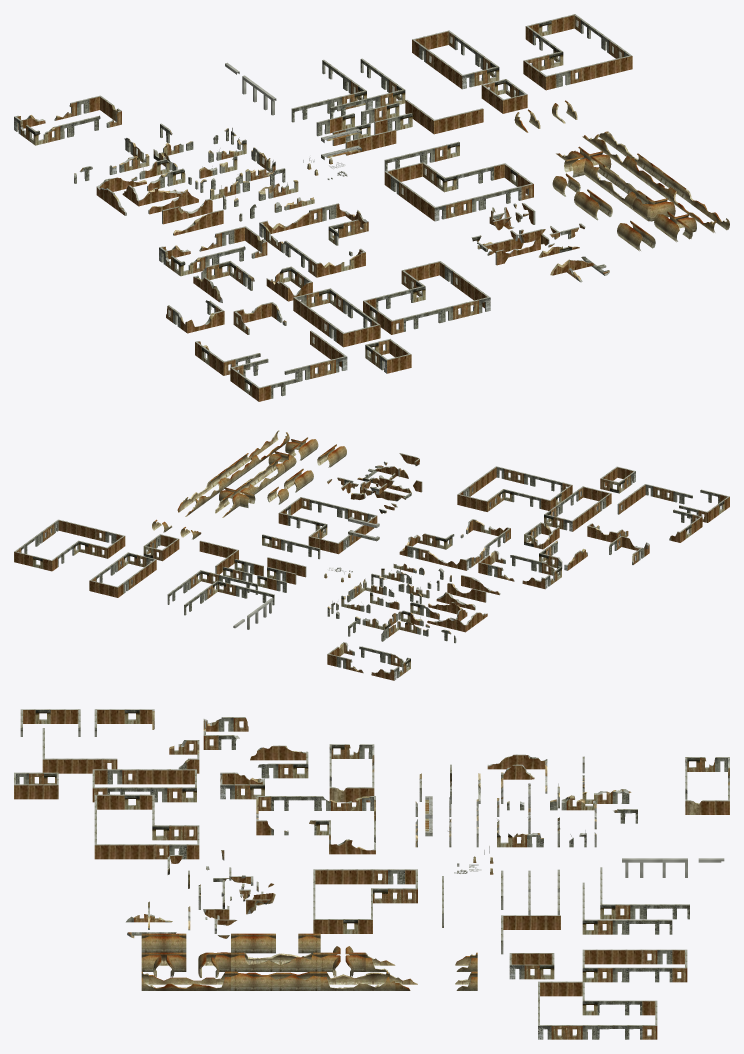
The model's file is Ruins_Layout.glb.
3 renders of one model, top to bottom at view 1: azimuth 30°, elevation 25°; view 2: azimuth 150°, elevation 25°; view 3: azimuth 270°, elevation 25°, orthographic. The views are drawn at different scales.
Parts seen in each view (by area): view 1: destroyedWalls_UV1; view 2: destroyedWalls_UV1; view 3: destroyedWalls_UV1.
Part boxes in pixels (x1,y1,x2,y2): destroyedWalls_UV1: [14, 14, 729, 401]; destroyedWalls_UV1: [14, 430, 729, 680]; destroyedWalls_UV1: [14, 709, 729, 1039].
Size of the model in its own units: 50.15 by 5.03 by 47.93.
1 material, 1 textured.
